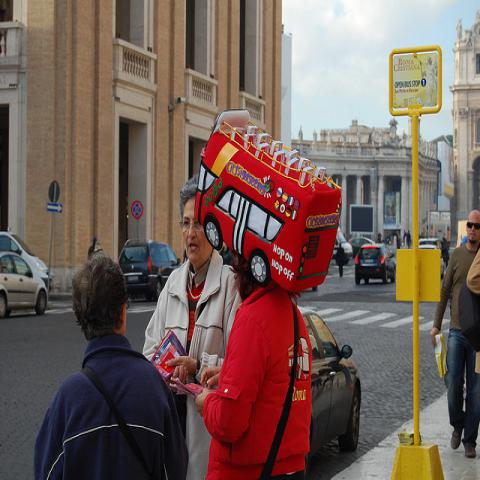bus: (195, 110, 344, 295)
car: (298, 307, 360, 474), (118, 241, 180, 299), (2, 252, 51, 320), (0, 228, 50, 286), (355, 244, 396, 285), (419, 238, 445, 278), (331, 226, 353, 262), (348, 237, 375, 257)
